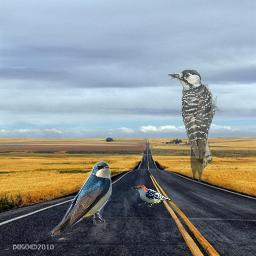Swallow: (49, 159, 114, 238)
Woodpecker: (167, 69, 224, 184), (131, 185, 172, 207)
